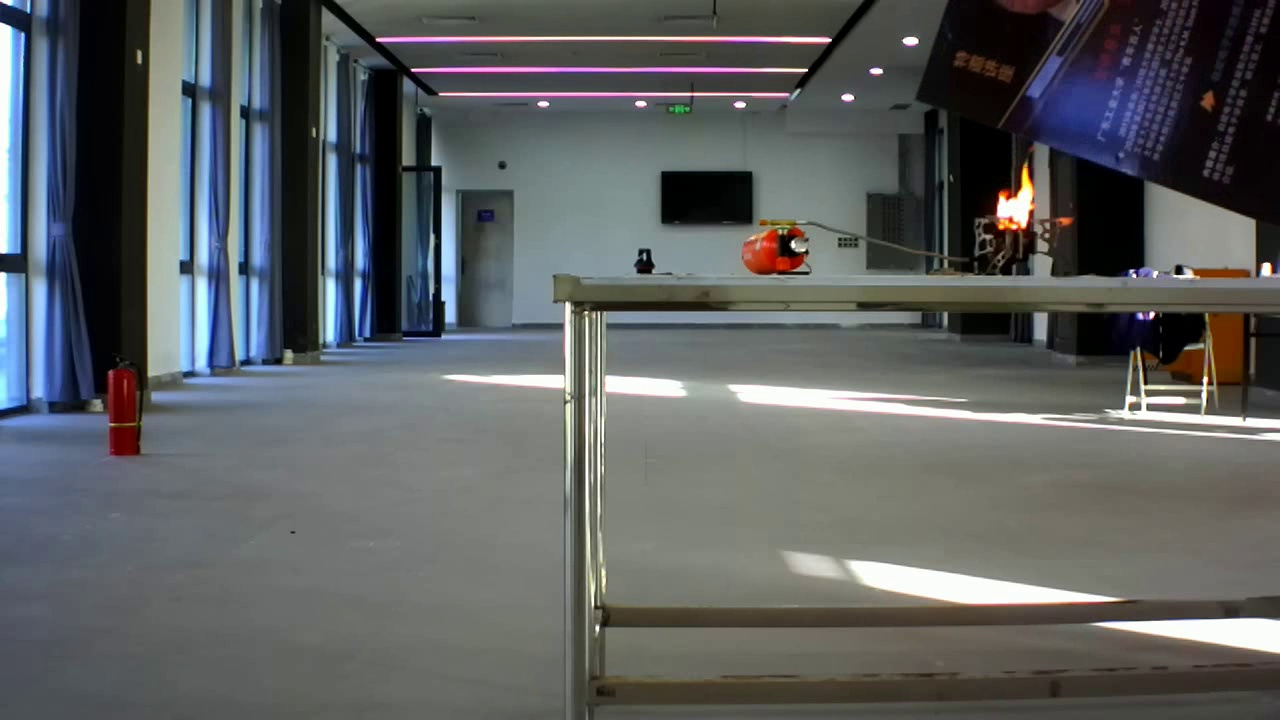Fire: (987, 160, 1038, 231)
